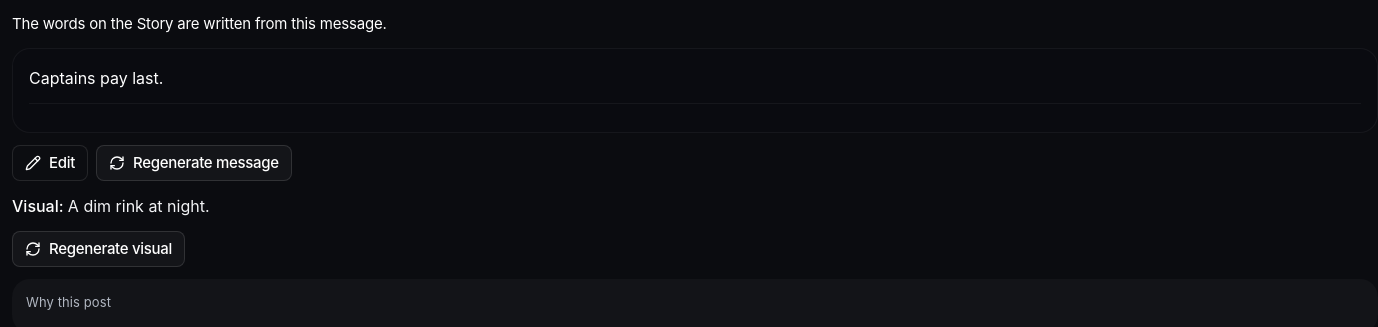
Test case: Regenerate visual › asks for a new visual only, saves it with the copy unchanged, and shows it
Click the button "Regenerate visual" at [98, 249], box 12,231 -> 185,267
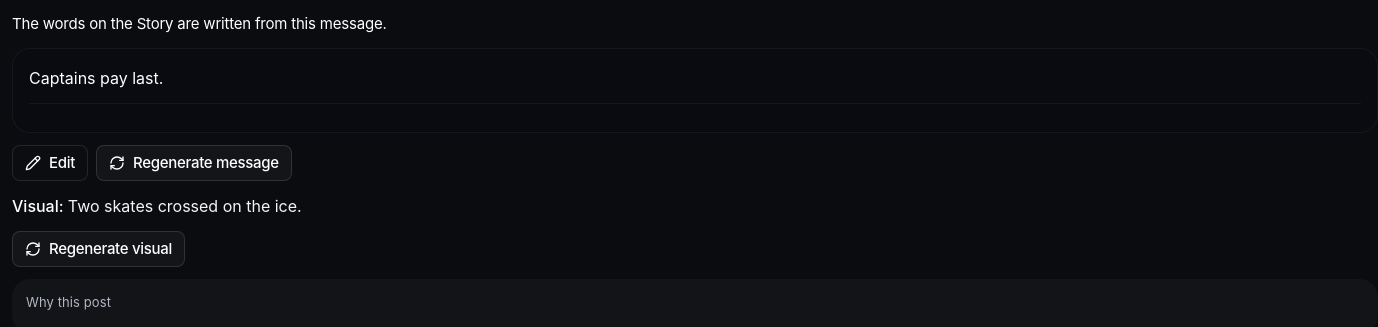
Expected: the text "Two skates crossed on the ice." is shown, 68,196 -> 302,216
